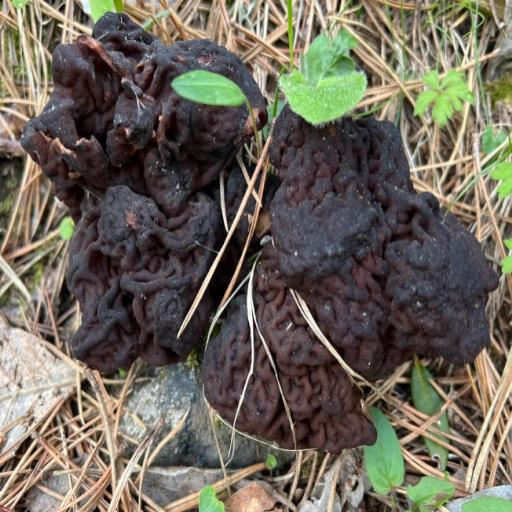False Morel: (8, 6, 500, 459)
